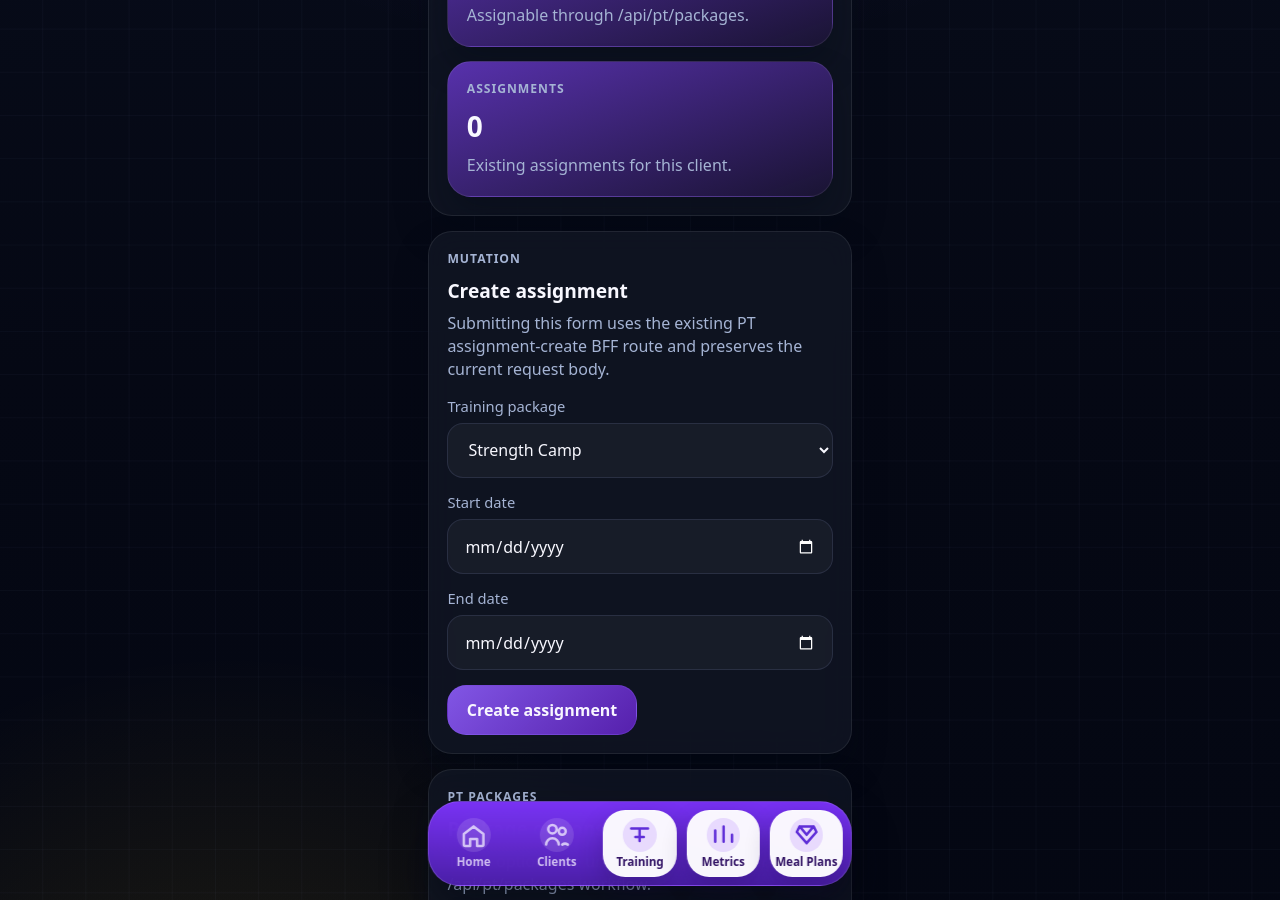
it: PTClientAssignPage mobile experience › preserves assignment creation error feedback without introducing a different mutation path
This screenshot has width=1280, height=900.
(page scrolled)
Select "Strength Camp" in the dropdown labelled "Training package" at (640, 450), box [447, 423, 833, 478]
Click the button "Create assignment" at (542, 710), box [447, 685, 637, 735]
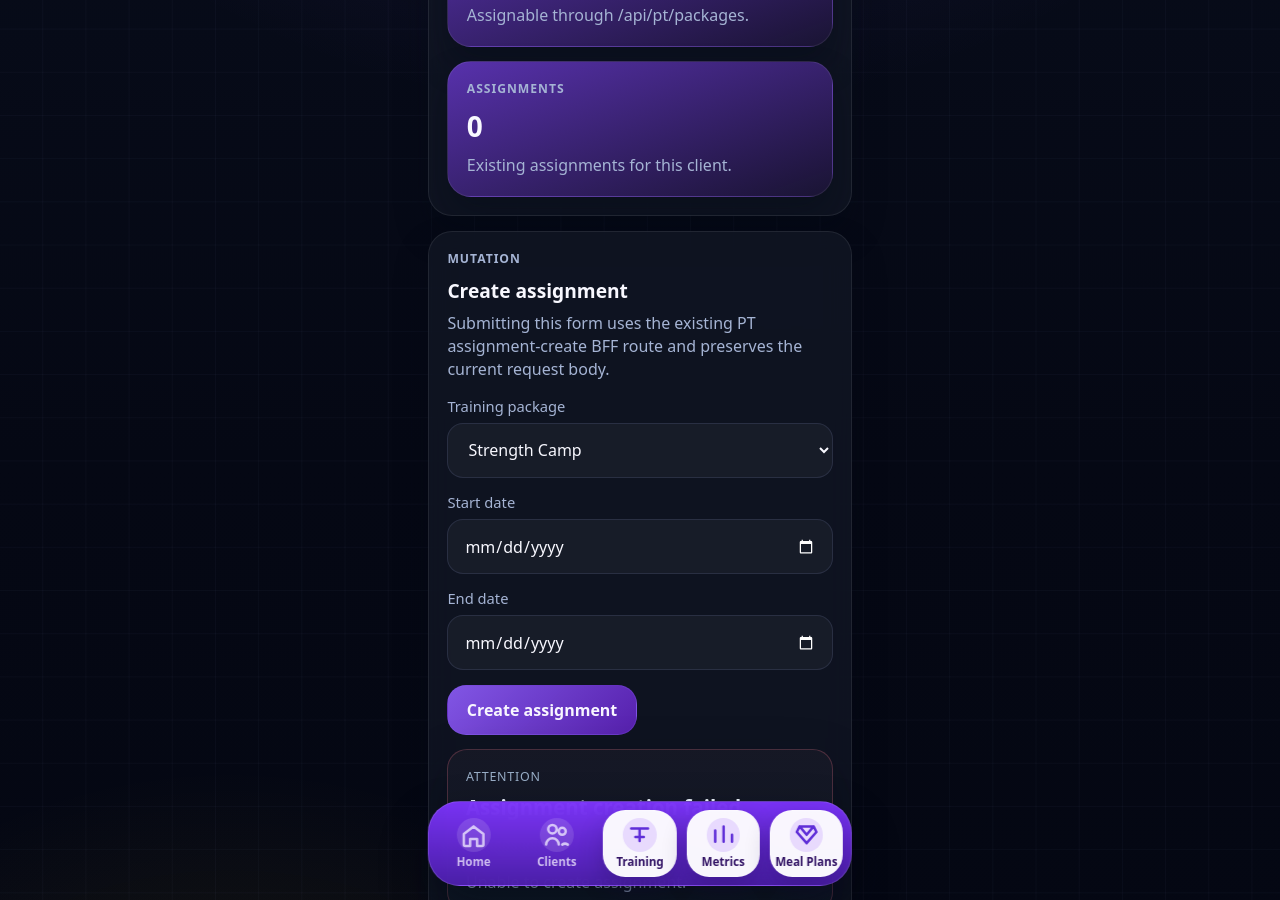
expect the text "Unable to create assignment." is shown: met, box [466, 871, 686, 893]
